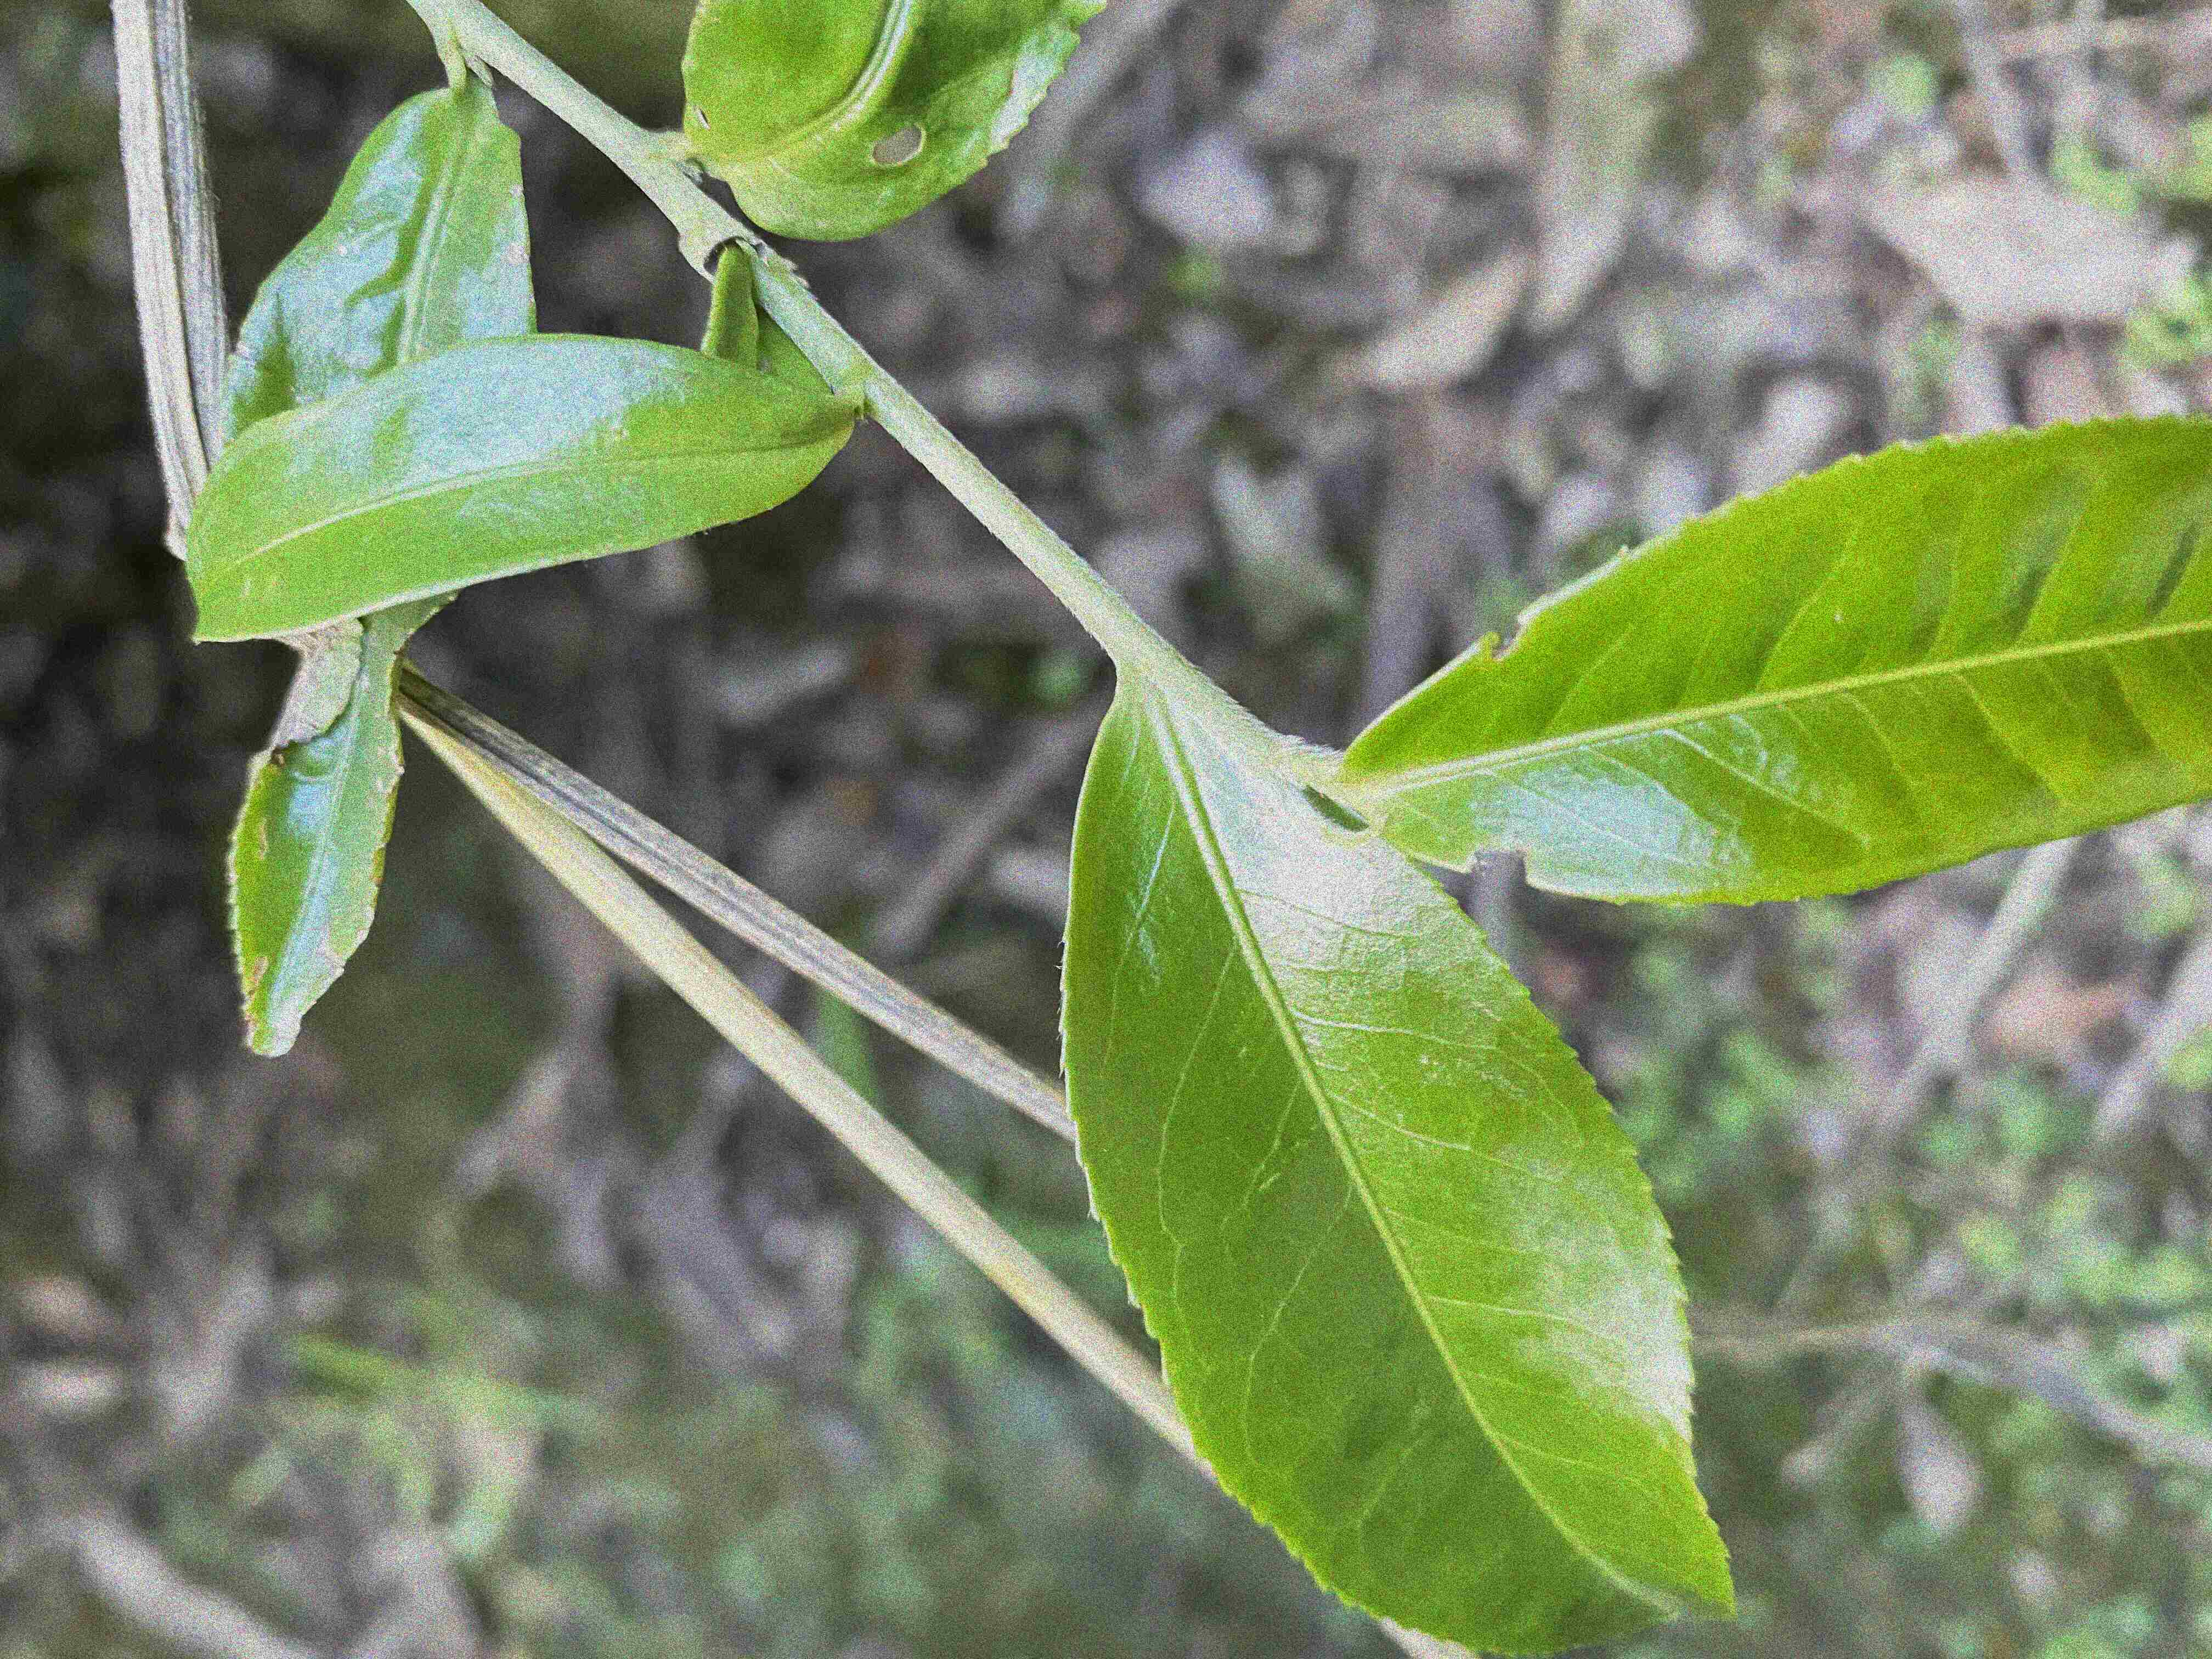chihuo_high: (1353, 408, 2210, 910)
chihuo_low: (678, 2, 1116, 246)
healthy: (1052, 674, 1737, 1656), (174, 329, 853, 653)
tanju_low: (204, 84, 543, 1058)
